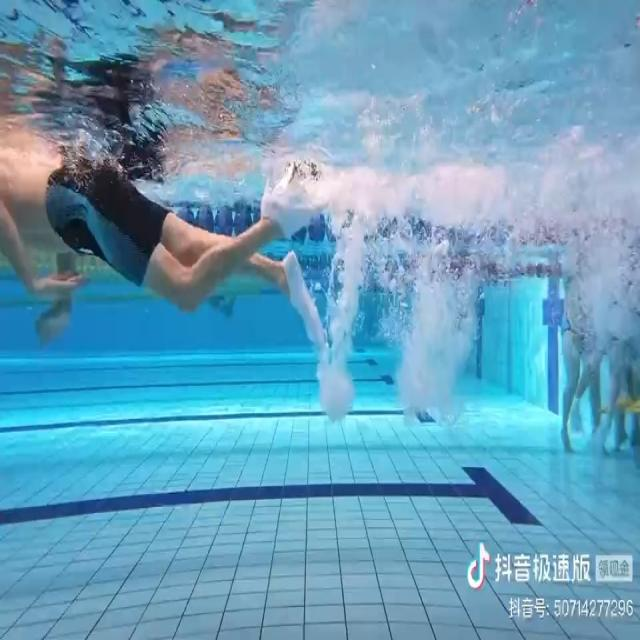Swimming: (1, 153, 330, 357)
